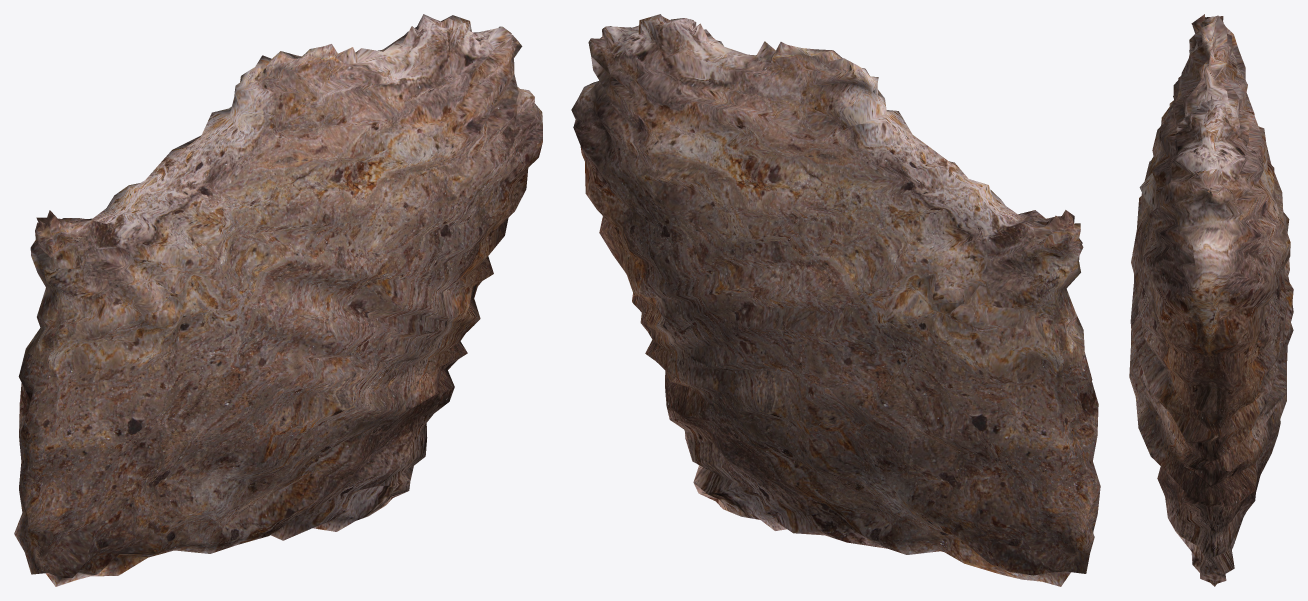
Rendered from Rhyolite updated.fbx.
The picture shows the model from 3 angles, left to right: view 1: azimuth 30°, elevation 25°; view 2: azimuth 150°, elevation 25°; view 3: azimuth 270°, elevation 25°; orthographic projection. The views are drawn at different scales.
Parts seen in each view (by area): view 1: Rhyolite; view 2: Rhyolite; view 3: Rhyolite.
Boxes of the visible parts, x1=… form: Rhyolite: x1=14, y1=14, x2=542, y2=586; Rhyolite: x1=571, y1=14, x2=1100, y2=586; Rhyolite: x1=1129, y1=14, x2=1293, y2=586.
Size of the model in its own units: 409 by 365 by 105.
